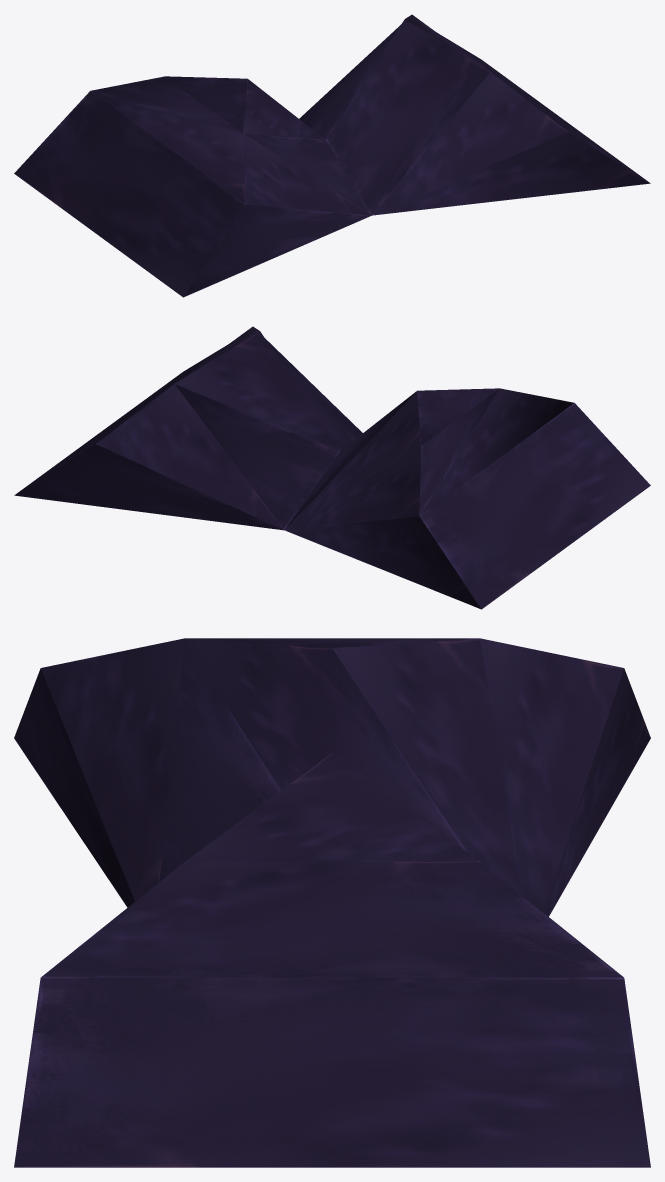
File: tentburned.gltf
3 views of the same model, one above another, from view 1: azimuth 30°, elevation 25°; view 2: azimuth 150°, elevation 25°; view 3: azimuth 270°, elevation 25° (orthographic). The views are drawn at different scales.
Visible parts, largest first — view 1: tentburned_atomic0; view 2: tentburned_atomic0; view 3: tentburned_atomic0.
Part boxes in pixels (bbox=[...]): tentburned_atomic0: bbox=[14, 14, 650, 297]; tentburned_atomic0: bbox=[14, 326, 650, 609]; tentburned_atomic0: bbox=[14, 638, 650, 1167].
Bounding box in the file's own units: 22.18 × 6.43 × 13.91.
Materials: 1 (1 with a texture image).
